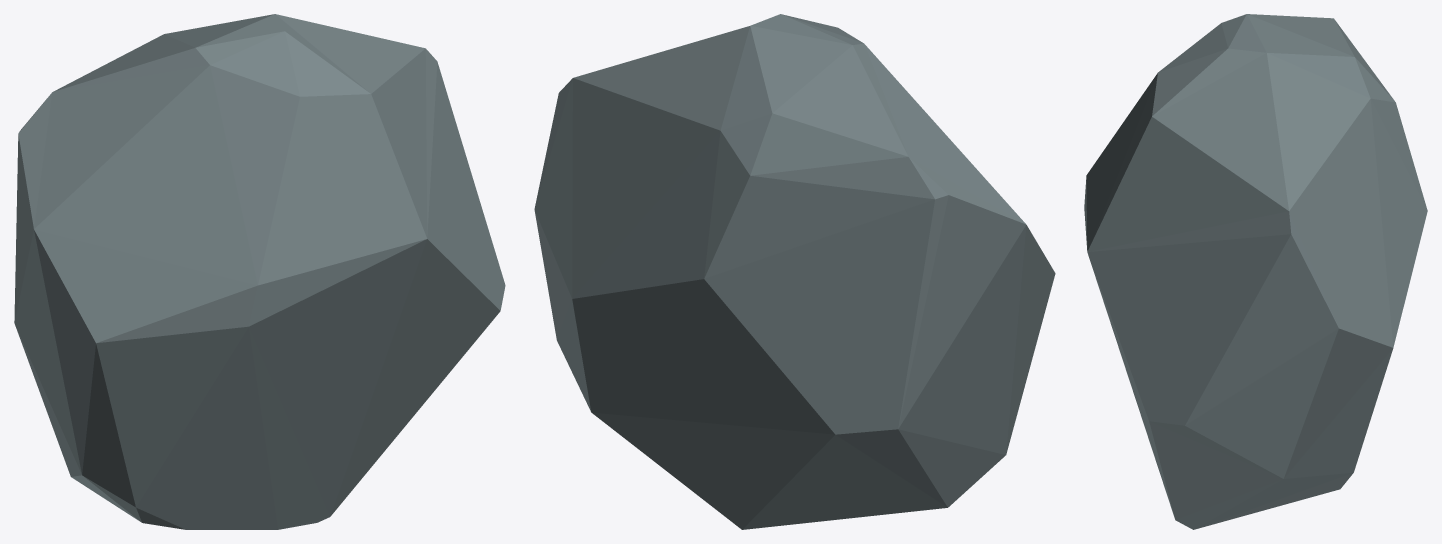
File: rock1.gltf
3 renders of one model, left to right at view 1: azimuth 30°, elevation 25°; view 2: azimuth 150°, elevation 25°; view 3: azimuth 270°, elevation 25°, orthographic. The views are drawn at different scales.
Parts seen in each view (by area): view 1: BigStone.018; view 2: BigStone.018; view 3: BigStone.018.
Boxes of the visible parts, box(x1,y1,x2,y2) form: BigStone.018: box(14, 14, 505, 529); BigStone.018: box(534, 14, 1055, 529); BigStone.018: box(1084, 14, 1427, 529).
Bounding box in the file's own units: 2.15 × 2.23 × 1.46.
Materials: 1 (1 with a texture image).
